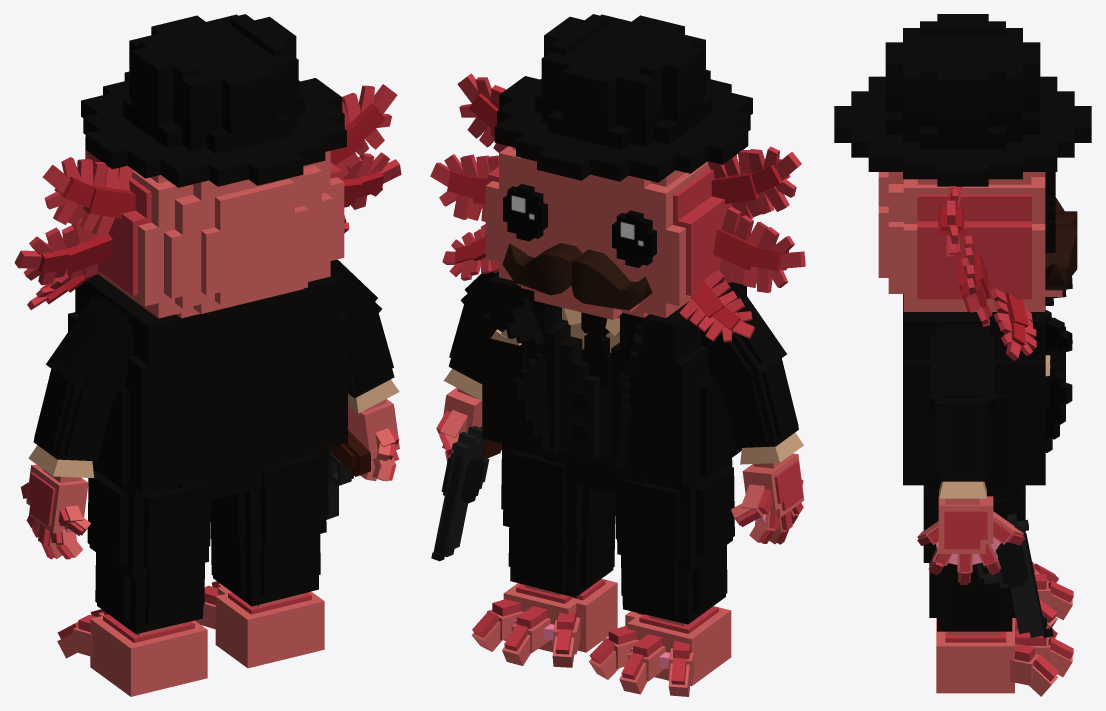
3 renders of one model, left to right at view 1: azimuth 30°, elevation 25°; view 2: azimuth 150°, elevation 25°; view 3: azimuth 270°, elevation 25°, orthographic. The views are drawn at different scales.
Parts seen in each view (by area): view 1: Cube0041, Cube0311, Cube0011, Cube0091, Cube0351, Cube0061, Cube0021, Cube0221, Cube0111; view 2: Cube0041, Cube0011, Cube0311, Cube0091, Cube0061, Cube0351, Cube0321, Cube0031, Cylinder1, Cube0021, Cube0111, Cube0101; view 3: Cube0041, Cube0091, Cube0311, Cube0011, Cube0061, Cube0351, Cube0111, Cube0321, Cube0101, Cube0021, Cylinder1.
Part boxes in pixels (x1,y1,x2,y2): Cube0041: (33, 14, 394, 633); Cube0311: (25, 137, 399, 696); Cube0011: (34, 259, 393, 625); Cube0091: (14, 84, 401, 642); Cube0351: (34, 103, 385, 304); Cube0061: (123, 74, 305, 153); Cube0021: (28, 379, 399, 477); Cube0221: (330, 429, 370, 476); Cube0111: (326, 447, 353, 519); Cube0041: (448, 14, 798, 624); Cube0011: (449, 273, 798, 615); Cube0311: (440, 146, 804, 696); Cube0091: (430, 73, 805, 684); Cube0061: (485, 72, 712, 436); Cube0351: (447, 93, 790, 333); Cube0321: (502, 243, 652, 310); Cube0031: (551, 306, 611, 459); Cylinder1: (503, 184, 656, 267); Cube0021: (443, 307, 803, 464); Cube0111: (433, 426, 489, 556); Cube0101: (431, 453, 484, 561); Cube0041: (834, 14, 1091, 631); Cube0091: (917, 186, 1073, 681); Cube0311: (878, 172, 1072, 696); Cube0011: (923, 324, 1049, 625); Cube0061: (885, 96, 1051, 384); Cube0351: (938, 206, 1028, 346); Cube0111: (976, 513, 1044, 637); Cube0321: (1045, 197, 1077, 290); Cube0101: (997, 533, 1053, 637); Cube0021: (939, 355, 1050, 498); Cylinder1: (1045, 172, 1055, 252).
Bounding box in the file's own units: 4.15 × 6.42 × 2.49.
14 materials, 1 textured.
